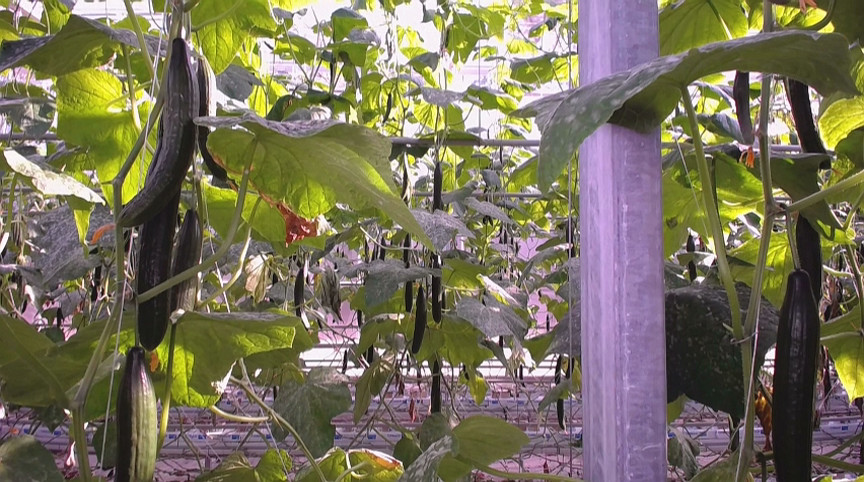cucumber: (116, 36, 199, 228), (771, 271, 818, 482), (116, 348, 157, 482), (140, 208, 177, 349), (788, 76, 833, 171), (197, 51, 227, 179), (174, 209, 205, 313), (734, 68, 754, 145), (410, 289, 427, 357), (294, 268, 311, 330), (432, 257, 443, 324), (432, 162, 444, 213)
